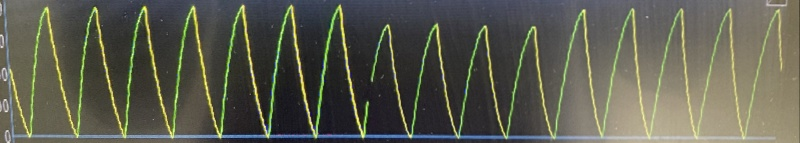normal_volume: (16, 1, 753, 143)
